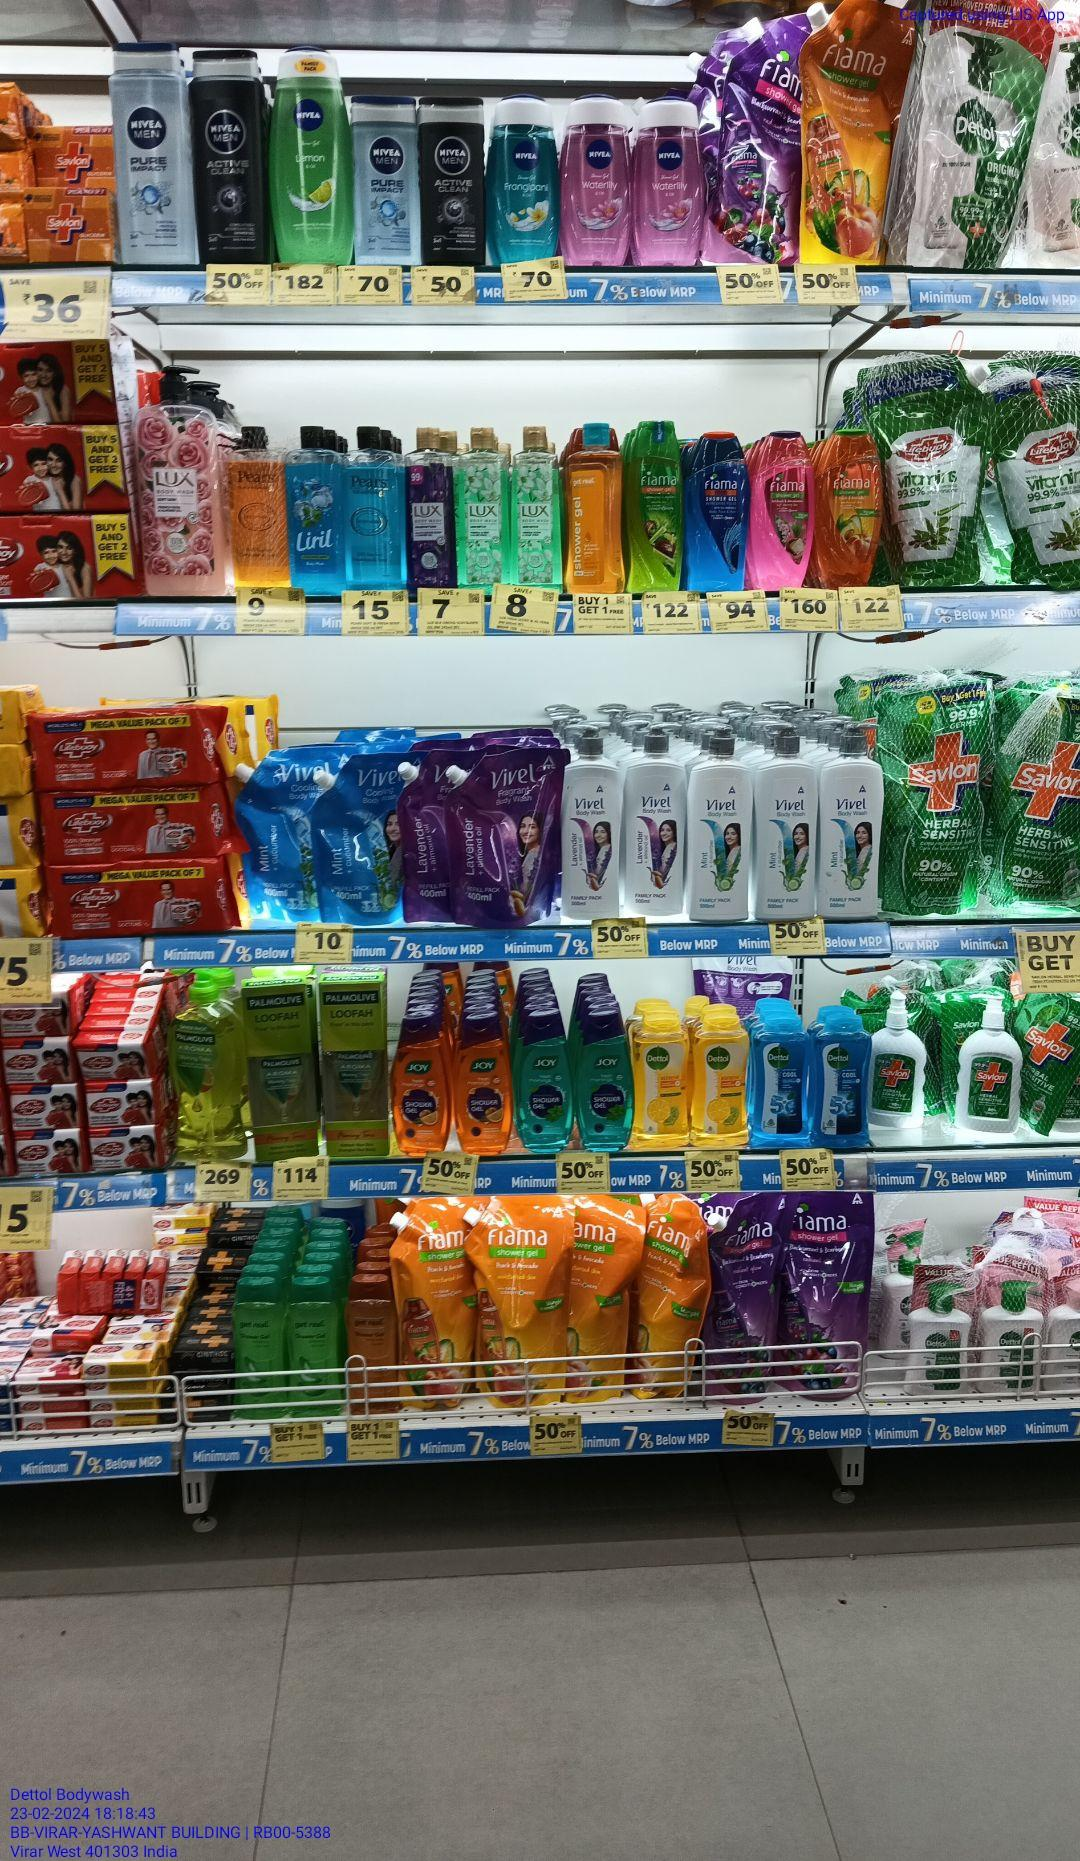Dettol_Bodywash_Cool: (813, 1019, 876, 1148), (752, 1019, 811, 1149)
Dettol_Bodywash_Refresh: (635, 1017, 692, 1149), (693, 1017, 750, 1146)
Fiama_Shower_Gel_Lemongrass_and_Jojoba_250ML: (629, 422, 683, 595)
Fiama_Shower_Gel_Patchouli_and_Macadamia_250ML: (751, 438, 814, 586)
Fiama_Shower_Gel_Peach_and_Avocado_250ML: (820, 427, 882, 586)
Get_Real_Shower_Gel_Moisturising_Glycerin_300ML: (345, 1302, 400, 1414)
Joy_Shower_Gel_Mandarin_and_Lemongrass_250ML: (454, 1015, 513, 1154), (390, 1020, 449, 1153)
Joy_Shower_Gel_Mint_and_Eucalyptus_250ML: (517, 1015, 573, 1154), (576, 1014, 633, 1150)
Liril_Cooling_Mint_Body_Wash_250ML: (285, 428, 345, 591)
Lux_Black_Orchid_Scent_and_Juniper_Oil_Body_Wash_245ML: (401, 428, 454, 589)
Lux_Body_Wash_Skin_Detox_Freesia_Scent_and_Alove_Vera_245ML: (455, 428, 512, 587), (512, 425, 561, 589)
Nivea_Shower_Gel_Frangipani_and_Oil_250ML: (490, 96, 561, 265)
Nivea_Shower_Gel_Lemon_and_Oil_250ML: (274, 49, 350, 265)
Nivea_Shower_Gel_Waterlily_and_Oil_250ML: (633, 100, 701, 267), (563, 98, 630, 263)
Pears_Pure_Glycerin_and_Mint_Extracts_Body_Wash_250ML: (343, 429, 401, 591)
